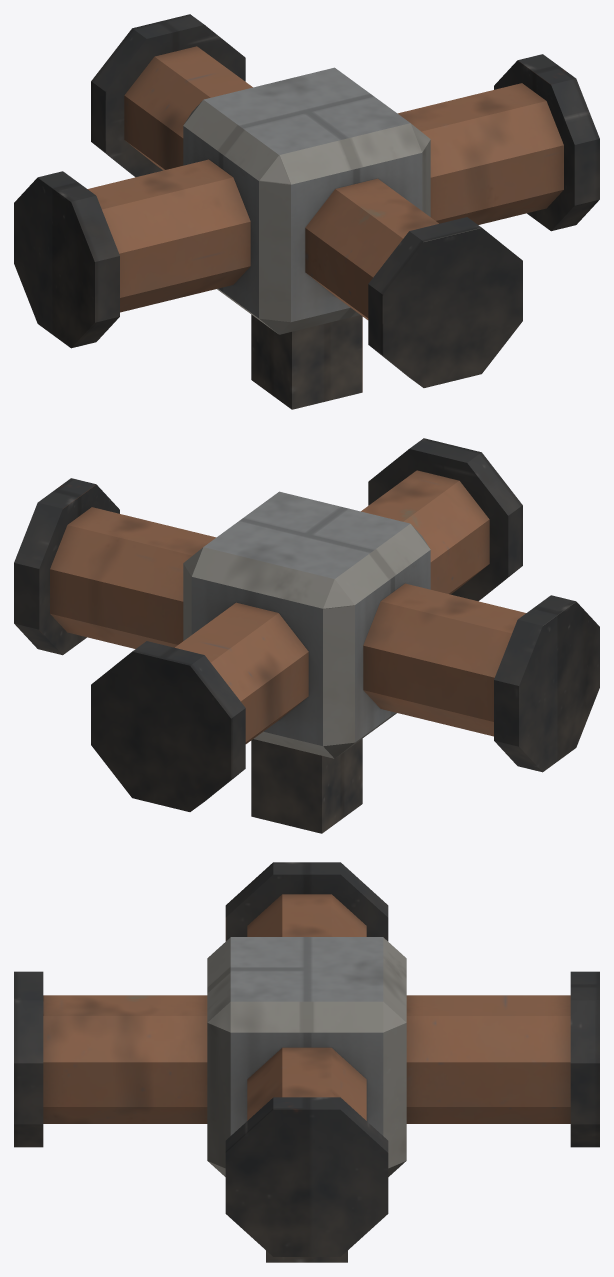
The model's file is cano_cruz.glb.
3 renders of one model, top to bottom at view 1: azimuth 30°, elevation 25°; view 2: azimuth 150°, elevation 25°; view 3: azimuth 270°, elevation 25°, orthographic.
Visible parts, largest first — view 1: cano_cruz; view 2: cano_cruz; view 3: cano_cruz.
Part boxes in pixels (box(x1,y1,x2,y2)): cano_cruz: box(14, 14, 599, 409); cano_cruz: box(14, 438, 599, 833); cano_cruz: box(14, 862, 599, 1262).
Size of the model in its own units: 1 by 0.52 by 1.
Materials: 1 (1 with a texture image).
